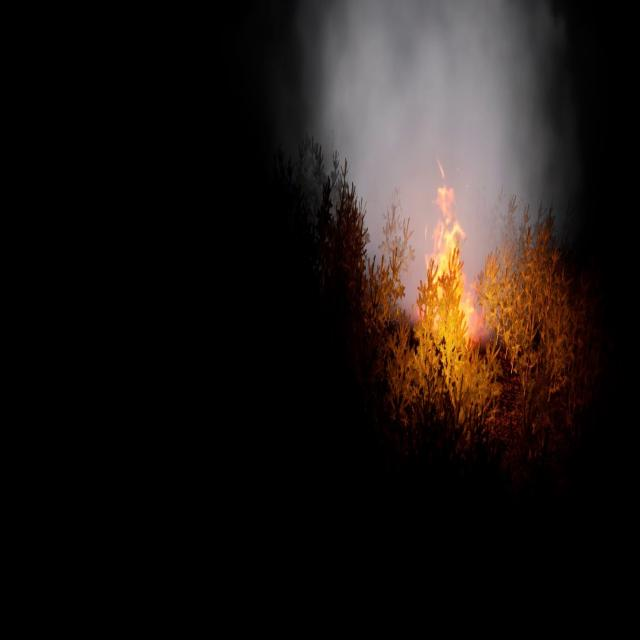fire: (424, 157, 475, 330)
smoke: (268, 0, 586, 340)
